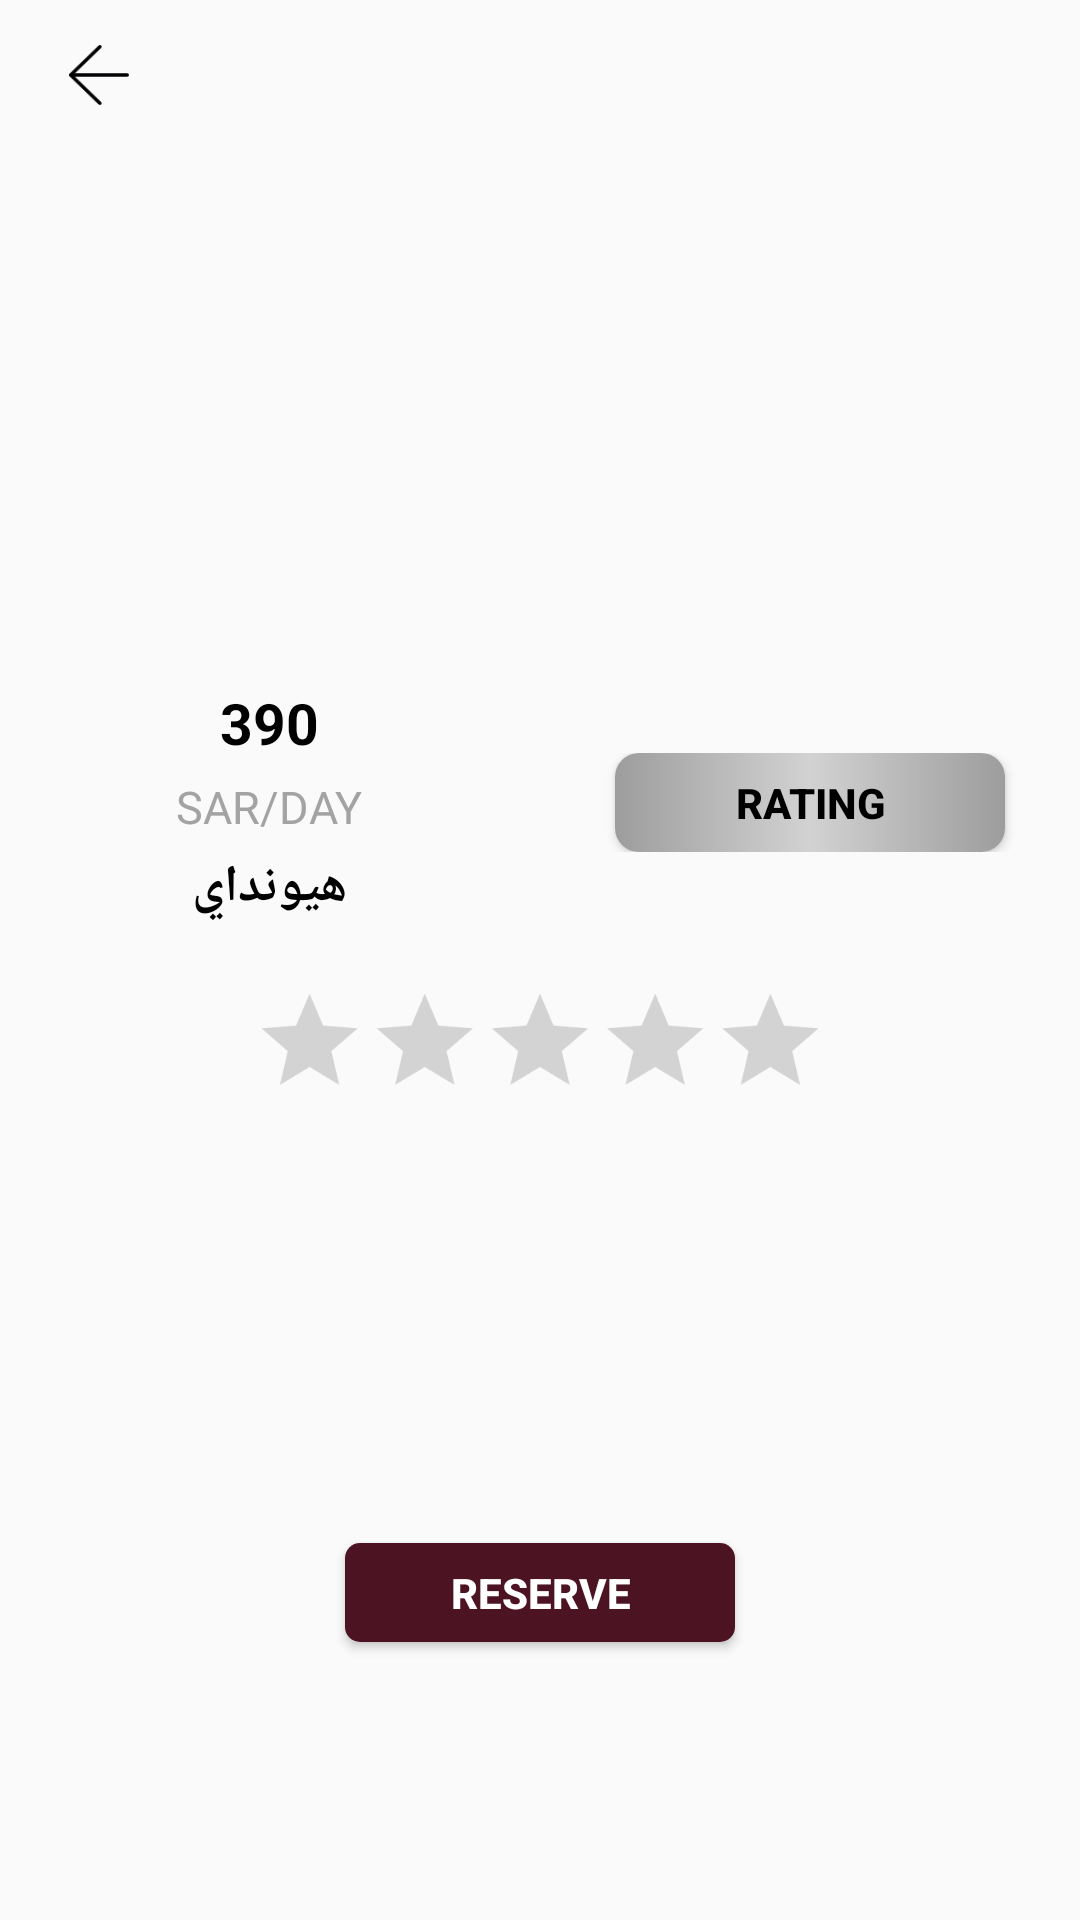

Screen size 1080*1920. Icon name, then its center in pixels as (x,y):
back arrow: (99,75)
